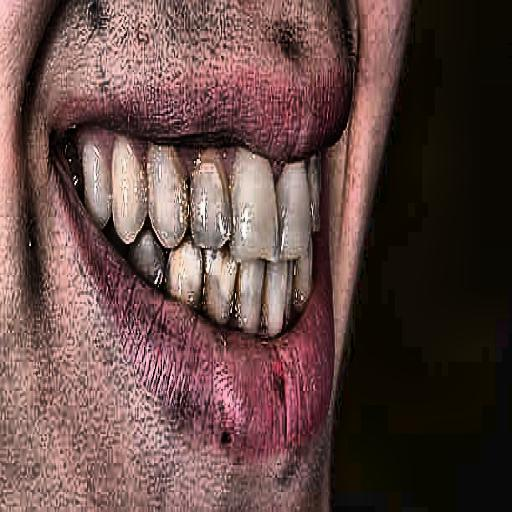Calculus: (94, 116, 329, 357)
